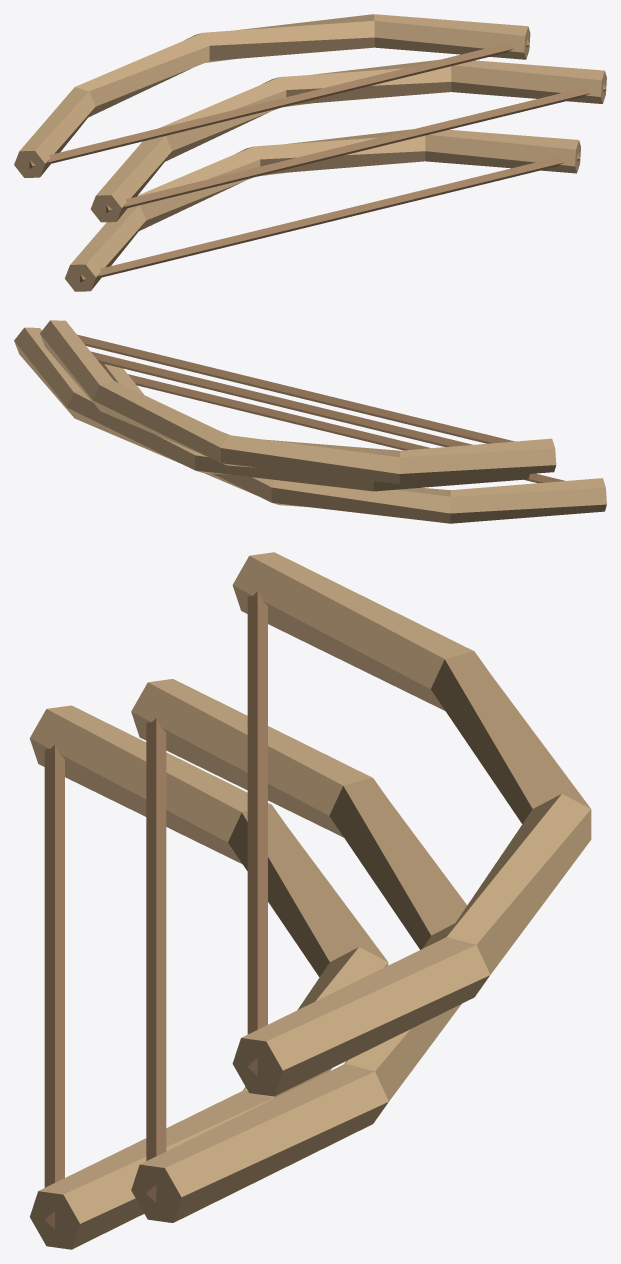
Rendered from item_053_bow_m.glb.
3 views of the same model, one above another, from view 1: azimuth 30°, elevation 25°; view 2: azimuth 150°, elevation 25°; view 3: azimuth 270°, elevation 25° (orthographic). The views are drawn at different scales.
Parts seen in each view (by area): view 1: item_053_bow_m; view 2: item_053_bow_m; view 3: item_053_bow_m.
Part boxes in pixels (box(x1,y1,x2,y2)): item_053_bow_m: box(14, 14, 606, 291); item_053_bow_m: box(14, 320, 606, 523); item_053_bow_m: box(29, 552, 591, 1249).
Bounding box in the file's own units: 0.7756 × 0.14 × 0.3322.
